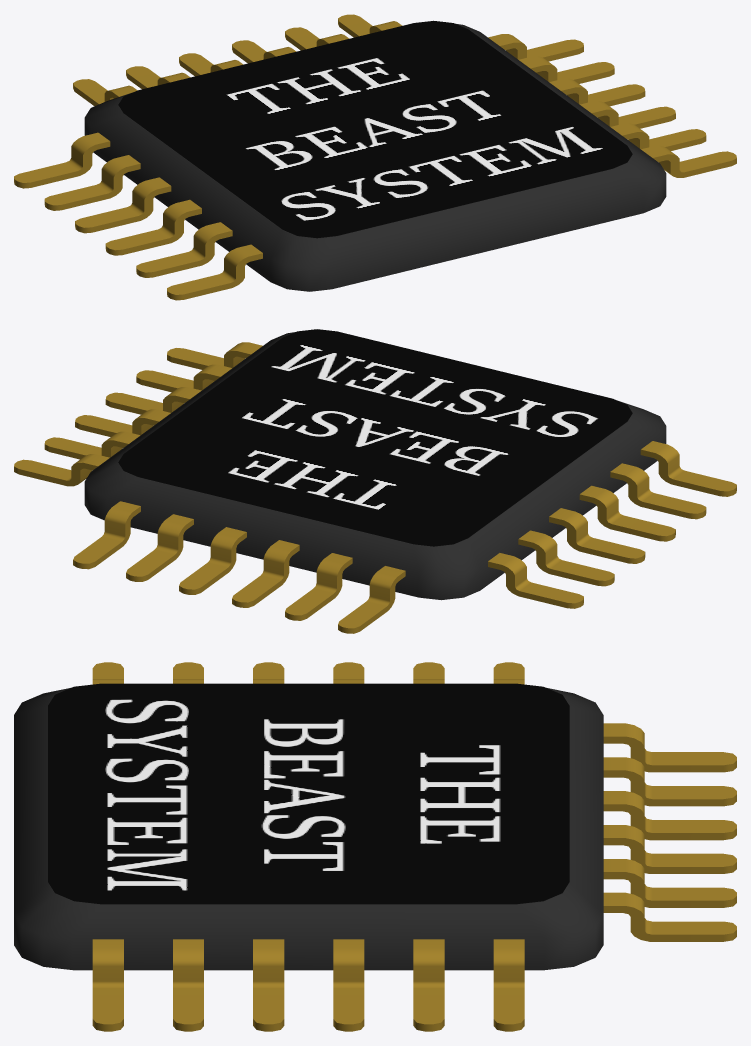
Rendered from Microchip.fbx.
3 views of the same model, one above another, from view 1: azimuth 30°, elevation 25°; view 2: azimuth 150°, elevation 25°; view 3: azimuth 270°, elevation 25° (orthographic). The views are drawn at different scales.
Visible parts, largest first — view 1: Microchip; view 2: Microchip; view 3: Microchip.
Part boxes in pixels (x1,y1,x2,y2): Microchip: (14, 14, 736, 300); Microchip: (14, 329, 736, 633); Microchip: (14, 662, 736, 1031).
Bounding box in the file's own units: 7.26 × 0.5299 × 6.13.
3 materials, 1 textured.
